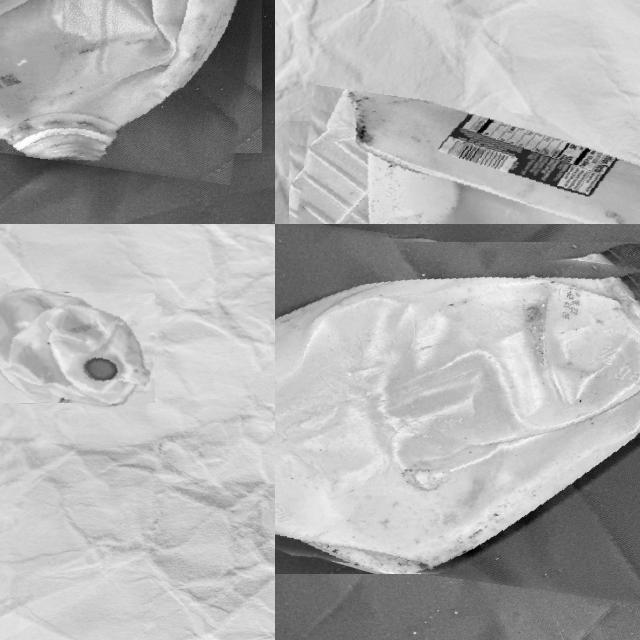milk-jug: (275, 224, 640, 590), (0, 0, 274, 169), (277, 103, 640, 224), (0, 287, 157, 409)
